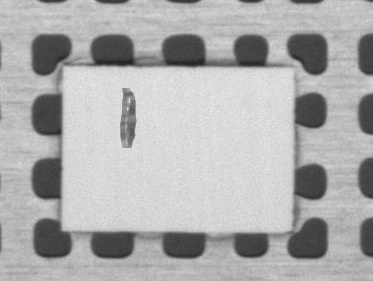DIE_INK: (158, 66, 185, 111)
